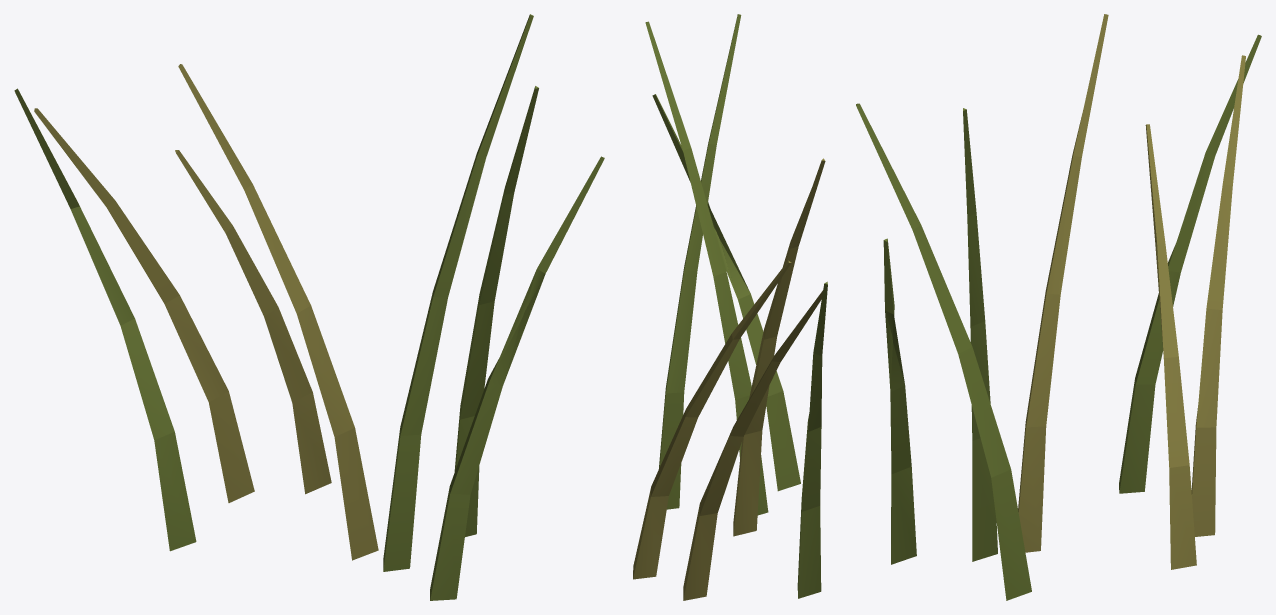
Rendered from reeds_c_low.glb.
3 renders of one model, left to right at view 1: azimuth 30°, elevation 25°; view 2: azimuth 150°, elevation 25°; view 3: azimuth 270°, elevation 25°, orthographic. The views are drawn at different scales.
Bounding box in the file's own units: 0.382 × 0.4884 × 0.3527.
